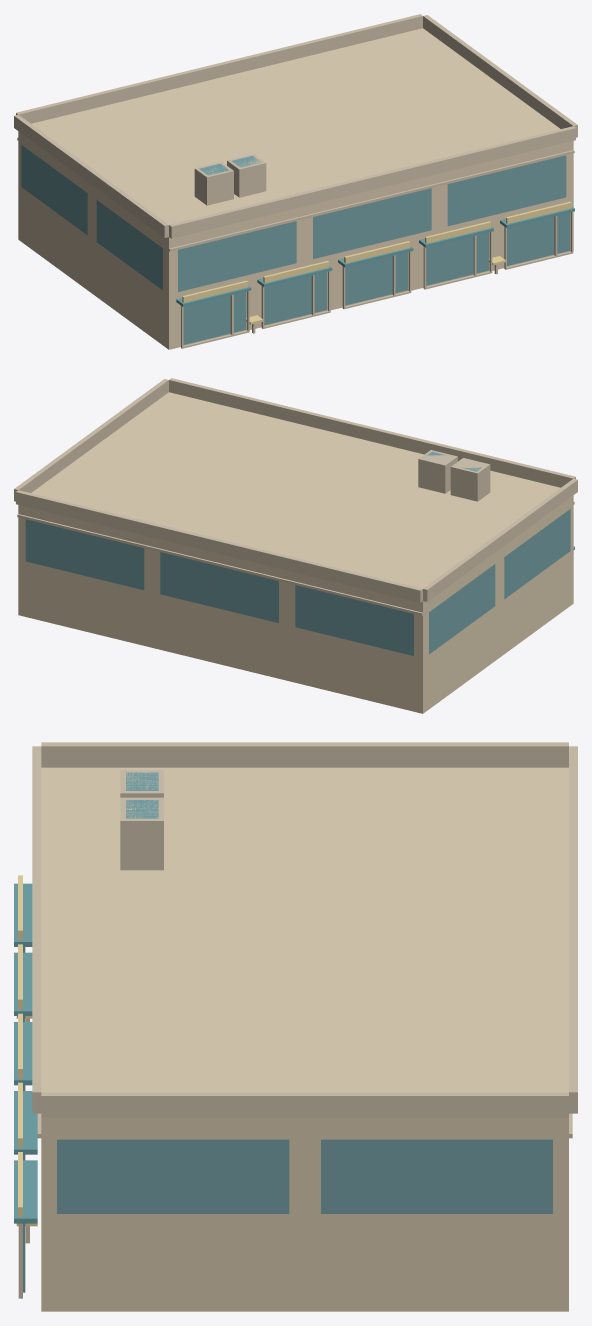
The model's file is commercial_3x2_a.glb.
3 renders of one model, top to bottom at view 1: azimuth 30°, elevation 25°; view 2: azimuth 150°, elevation 25°; view 3: azimuth 270°, elevation 25°, orthographic. The views are drawn at different scales.
Parts seen in each view (by area): view 1: commercial_3x2_a_0; view 2: commercial_3x2_a_0; view 3: commercial_3x2_a_0.
Boxes of the visible parts, <box> form: commercial_3x2_a_0: <box>14,14,577,349</box>; commercial_3x2_a_0: <box>14,378,577,713</box>; commercial_3x2_a_0: <box>14,742,577,1311</box>.
Size of the model in its own units: 23 by 7.5 by 15.5.
